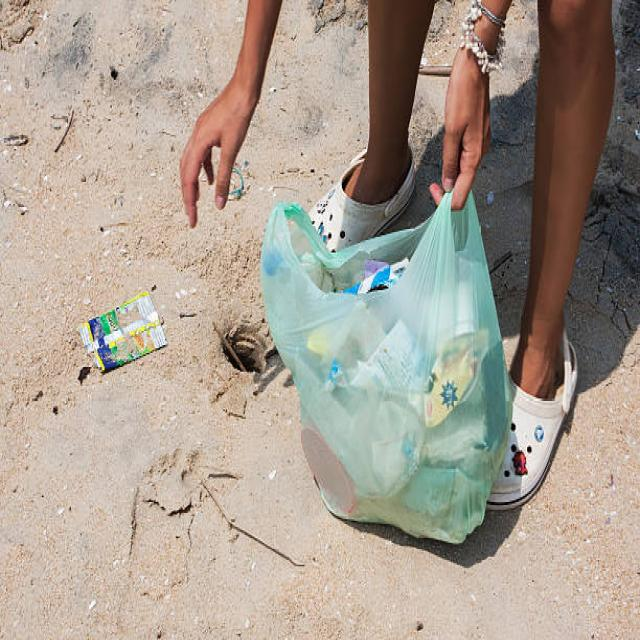trash: (232, 215, 487, 536)
